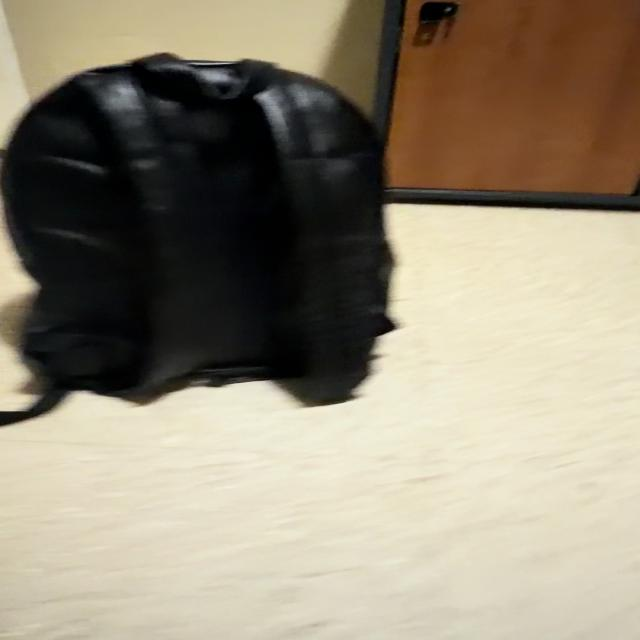backpack: (0, 54, 392, 424)
